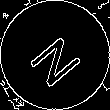N_NE: (23, 24, 87, 86)
